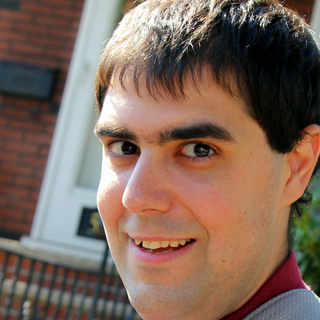eye: (168, 138, 220, 164), (102, 136, 146, 164)
